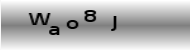8: (83, 9, 97, 22)
J: (109, 15, 117, 32)
W: (28, 12, 51, 25)
a: (48, 25, 60, 35)
o: (66, 20, 79, 29)
